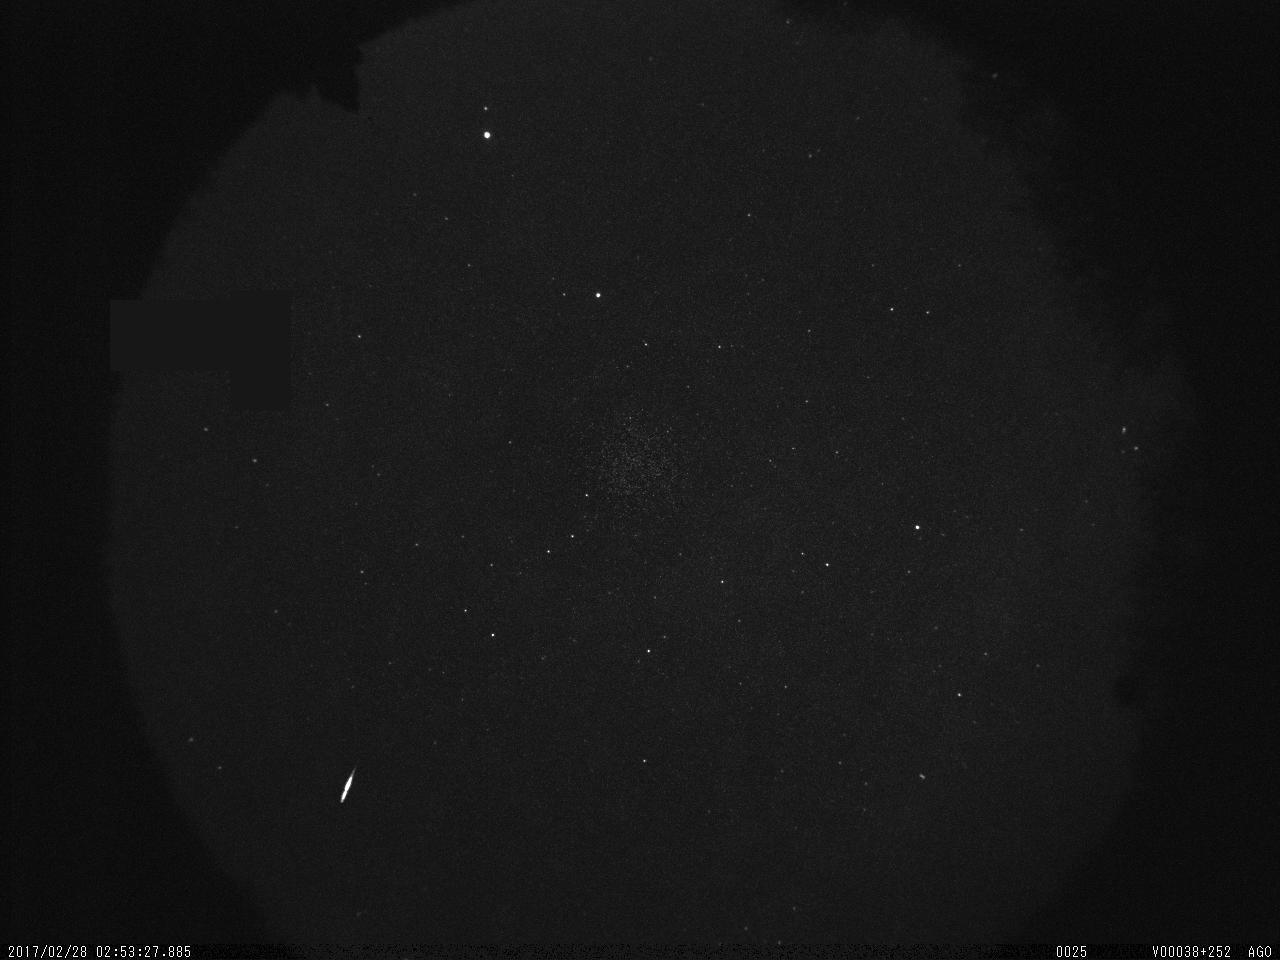meteor: (329, 748, 371, 818)
